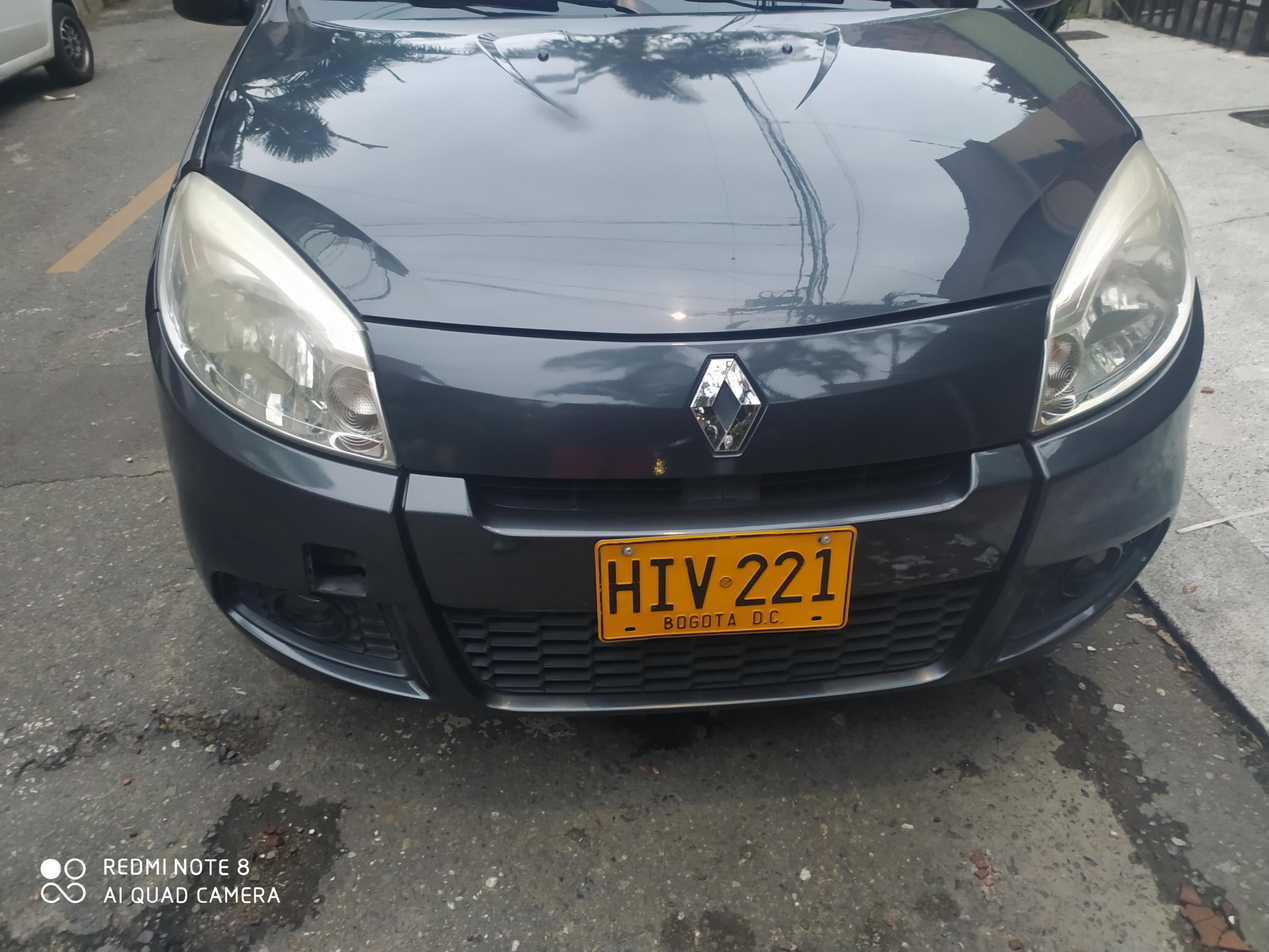placa: (581, 521, 860, 646)
